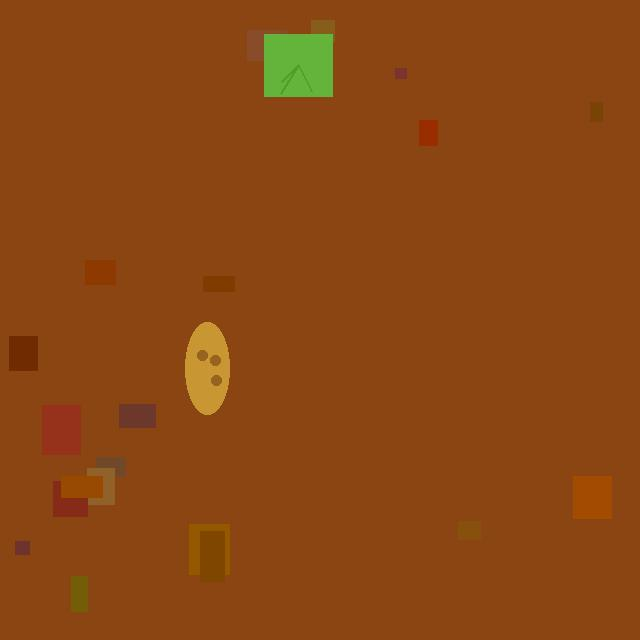damaged_crop: (185, 322, 229, 414)
weed: (264, 33, 332, 96)
